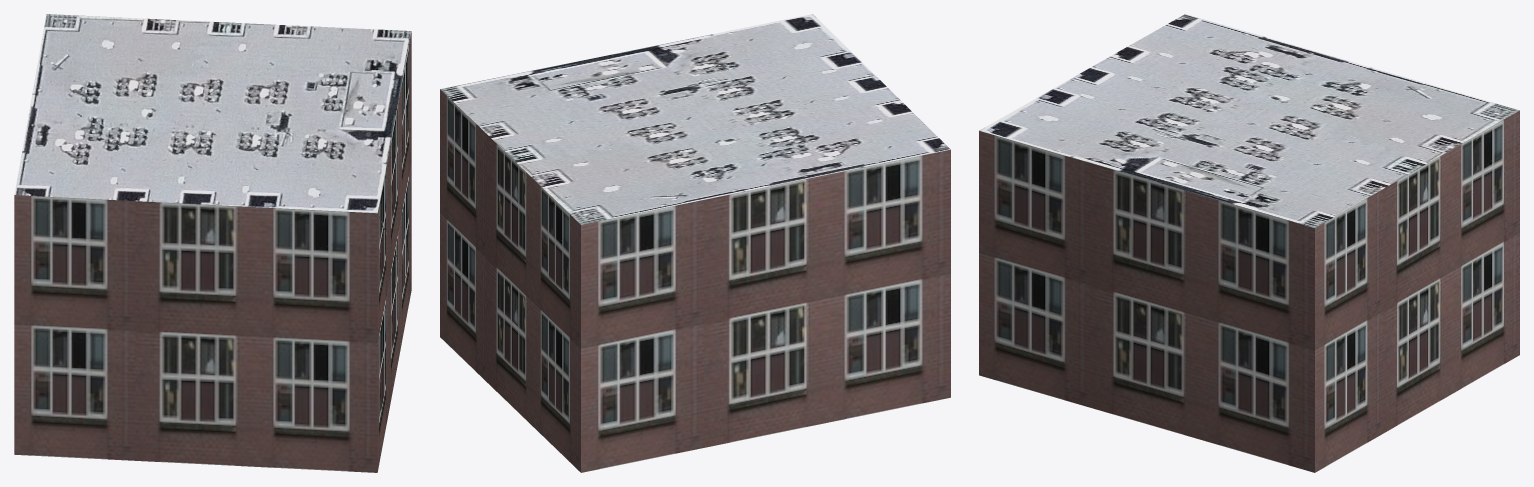
Rendered from ResTex__2005.fbx.
3 renders of one model, left to right at view 1: azimuth 30°, elevation 25°; view 2: azimuth 150°, elevation 25°; view 3: azimuth 270°, elevation 25°, orthographic. The views are drawn at different scales.
Visible parts, largest first — view 1: CityEngineMaterial_12_m, CityEngineMaterial_4_m; view 2: CityEngineMaterial_12_m, CityEngineMaterial_4_m; view 3: CityEngineMaterial_12_m, CityEngineMaterial_4_m.
Part boxes in pixels (x1,y1,x2,y2): CityEngineMaterial_12_m: [14, 31, 411, 472]; CityEngineMaterial_4_m: [14, 14, 411, 213]; CityEngineMaterial_12_m: [440, 89, 950, 472]; CityEngineMaterial_4_m: [440, 14, 950, 224]; CityEngineMaterial_12_m: [979, 110, 1519, 472]; CityEngineMaterial_4_m: [979, 14, 1519, 227].
Size of the model in its own units: 11.26 by 6 by 12.02.
2 materials, 2 textured.
